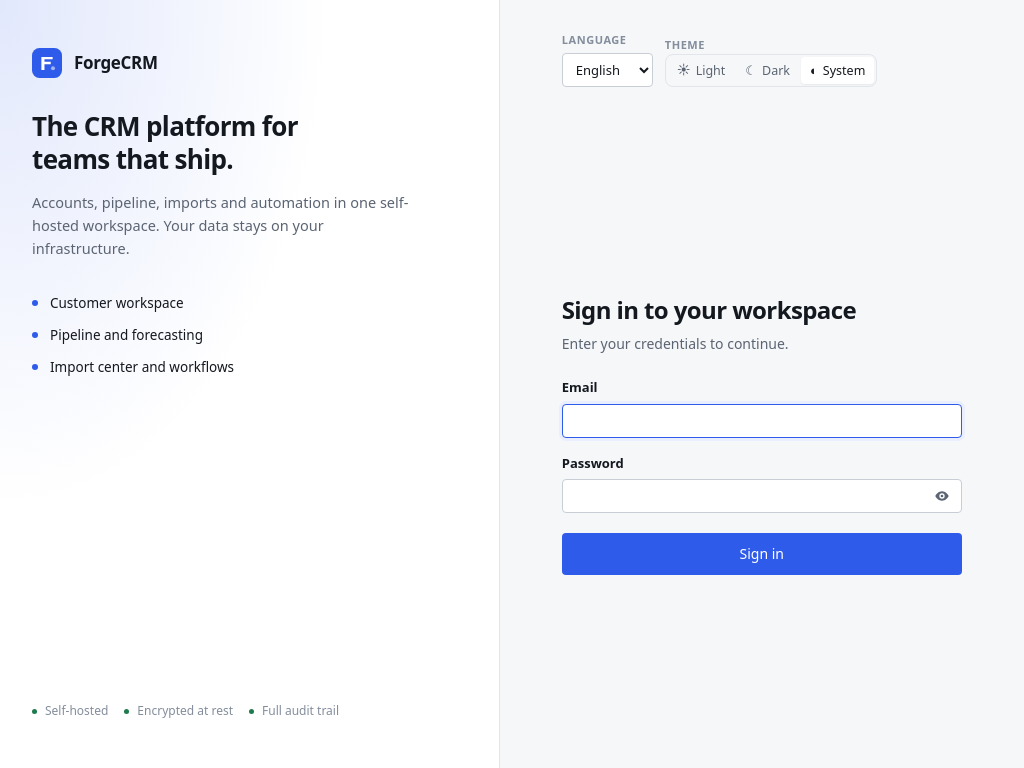
sign-in › asks for a second factor when the server requires one
Step 1. Type "sales@example.com" into the field labelled "Email" → (762, 421), box x1=562 y1=404 x2=962 y2=438
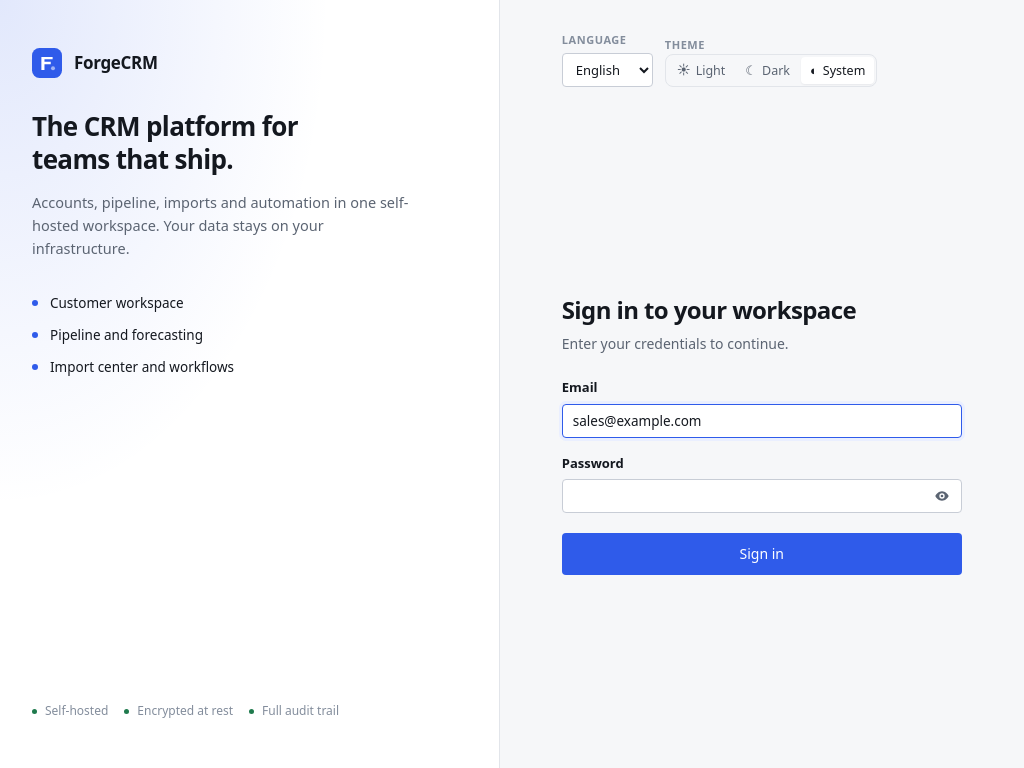
Step 2. Type "correct-horse-battery" into the password field labelled "Password" → (762, 496), box x1=562 y1=480 x2=962 y2=514
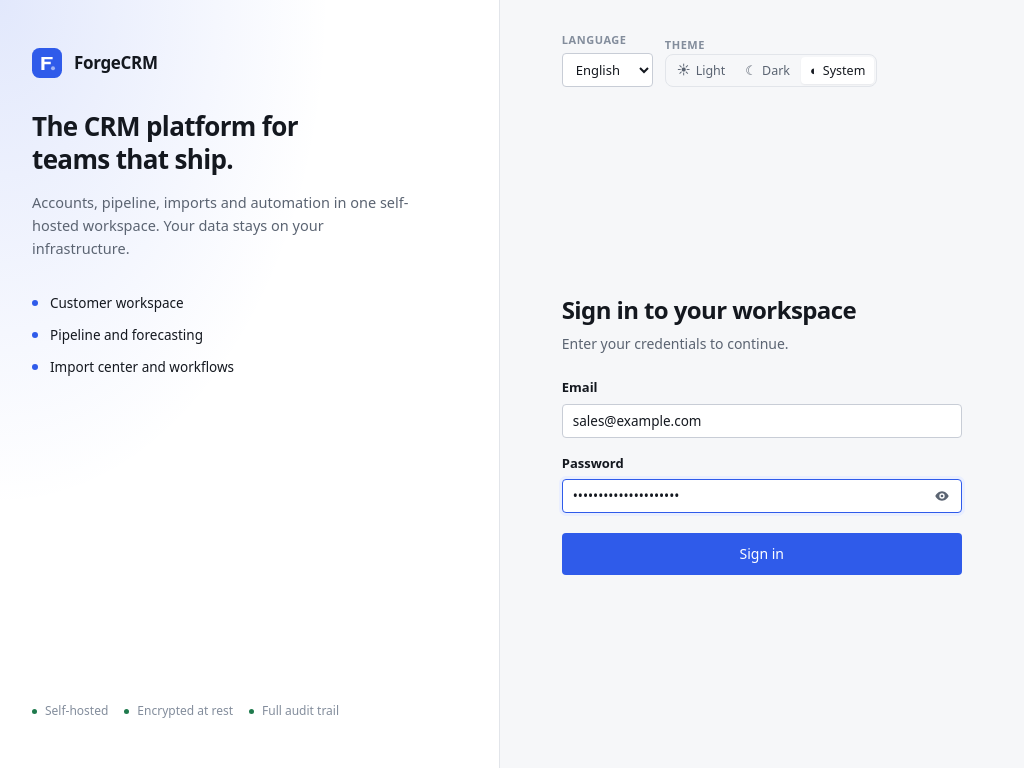
Step 3. Click the button "Sign in" → (762, 554), box x1=562 y1=534 x2=962 y2=575
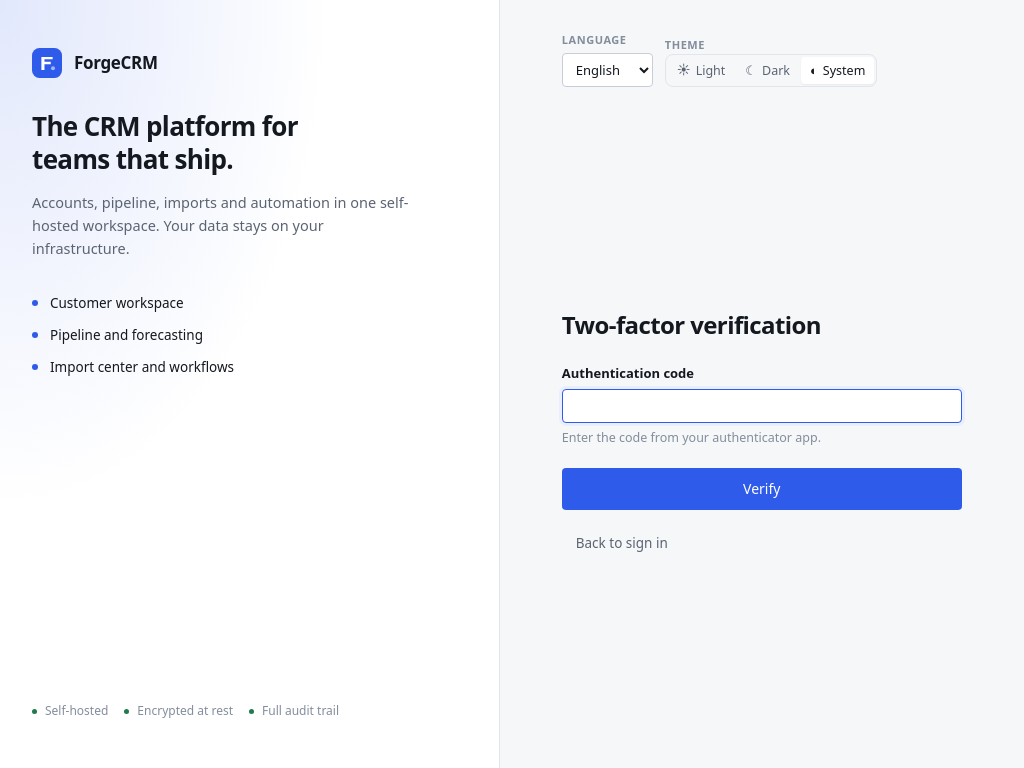
expect the heading "Two-factor verification" is shown: met, box x1=562 y1=308 x2=821 y2=341
expect the field labelled "Authentication code" is shown: met, box x1=562 y1=389 x2=962 y2=423
expect the label labelled "Password" is gone: met
